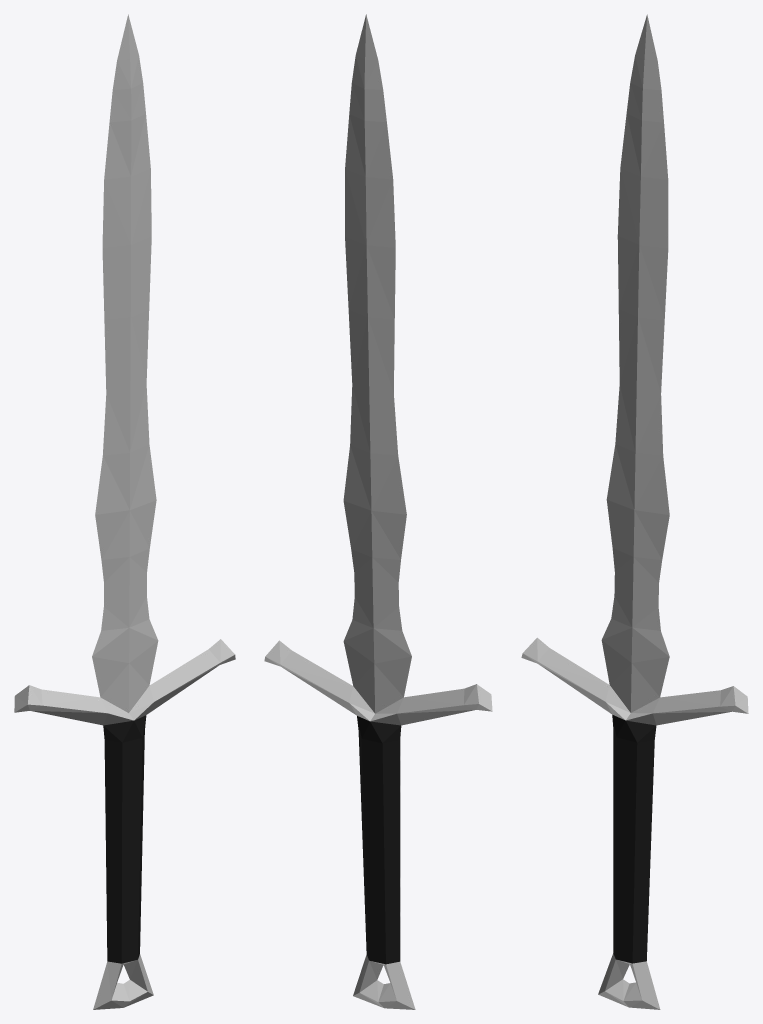
The model's file is steel-2H-sword.obj.
3 renders of one model, left to right at view 1: azimuth 30°, elevation 25°; view 2: azimuth 150°, elevation 25°; view 3: azimuth 330°, elevation 25°, orthographic.
Visible parts, largest first — view 1: Mesh_sword; view 2: Mesh_sword; view 3: Mesh_sword.
Part boxes in pixels (x1,y1,x2,y2): Mesh_sword: (14, 14, 235, 1009); Mesh_sword: (264, 14, 492, 1009); Mesh_sword: (521, 14, 748, 1009).
Size of the model in its own units: 0.5595 by 2.36 by 0.0782.
2 materials, 2 textured.
